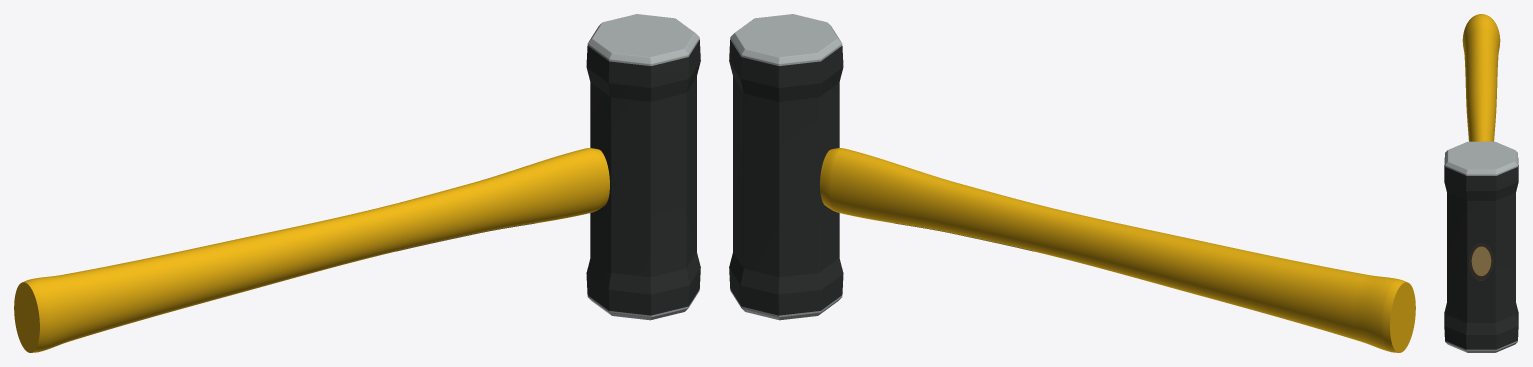
Rendered from stanley_56_204_engineer_hammer.glb.
3 views of the same model, side by side, from view 1: azimuth 30°, elevation 25°; view 2: azimuth 150°, elevation 25°; view 3: azimuth 270°, elevation 25° (orthographic). The views are drawn at different scales.
Parts seen in each view (by area): view 1: yellow_handle_jacket, forged_steel_head, machined_striking_face_right, machined_striking_face_left; view 2: yellow_handle_jacket, forged_steel_head, machined_striking_face_right, machined_striking_face_left; view 3: forged_steel_head, yellow_handle_jacket, machined_striking_face_right, fiberglass_core, head_eye_bonding_annulus, machined_striking_face_left.
Boxes of the visible parts, x1,y1,x2,y2 form: yellow_handle_jacket: (14,148,609,352); forged_steel_head: (586,40,700,315); machined_striking_face_right: (587,14,699,65); machined_striking_face_left: (587,289,699,320); yellow_handle_jacket: (820,148,1415,352); forged_steel_head: (729,40,843,315); machined_striking_face_right: (730,14,842,65); machined_striking_face_left: (730,289,842,320); forged_steel_head: (1444,158,1518,349); yellow_handle_jacket: (1462,14,1500,141); machined_striking_face_right: (1445,141,1517,175); fiberglass_core: (1471,246,1491,275); head_eye_bonding_annulus: (1469,243,1493,280); machined_striking_face_left: (1445,340,1517,352).
Size of the model in its own units: 0.356 by 0.135 by 0.0497.
6 materials, 1 textured.
